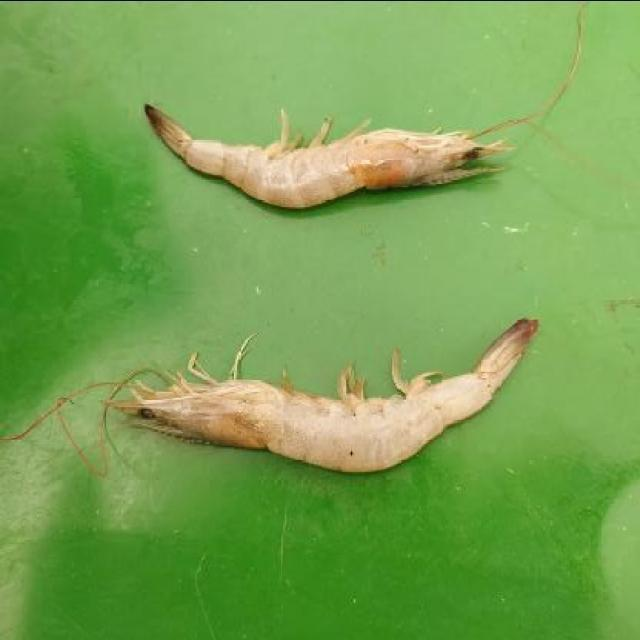shrimp: (103, 326, 544, 475), (128, 98, 514, 214)
